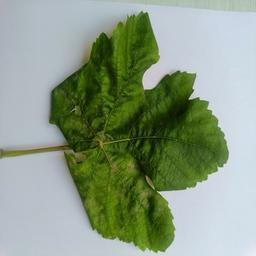Powdery-Mildew: (133, 186, 167, 224), (105, 147, 145, 179), (83, 185, 112, 224), (123, 88, 140, 105), (79, 160, 95, 176)
